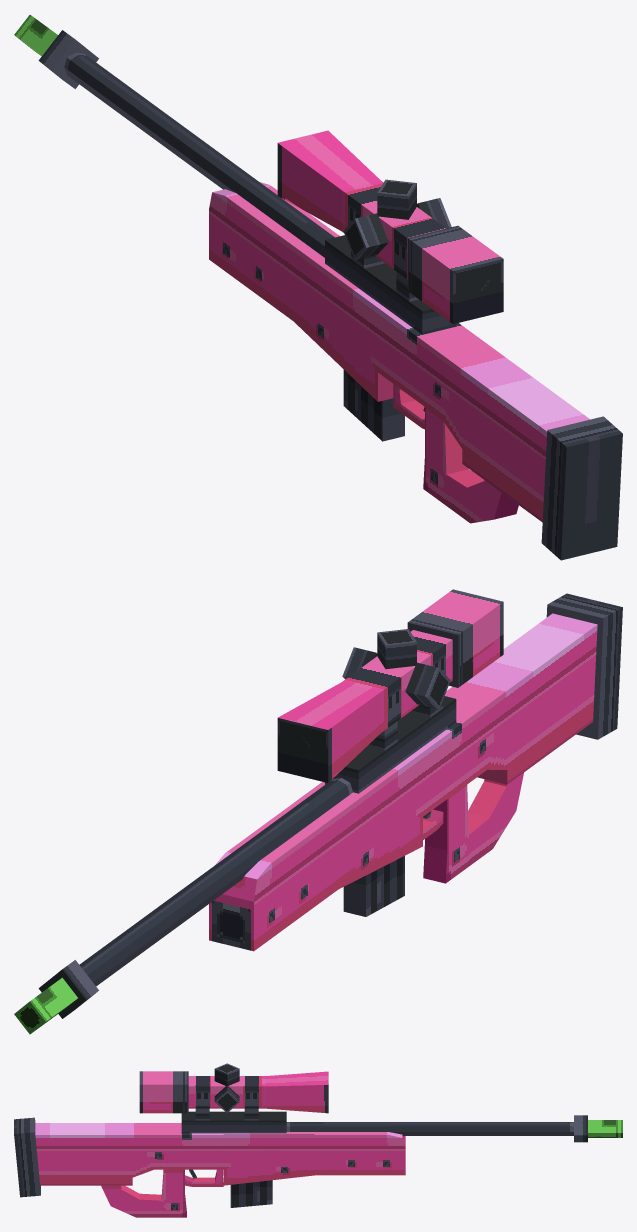
The model's file is awp-fun.gltf.
The picture shows the model from 3 angles, top to bottom: view 1: azimuth 30°, elevation 25°; view 2: azimuth 150°, elevation 25°; view 3: azimuth 270°, elevation 25°; orthographic projection. The views are drawn at different scales.
Visible parts, largest first — view 1: cube (×16); view 2: cube (×15); view 3: cube (×16).
Boxes of the visible parts, x1=… form: cube (×16): x1=14, y1=15, x2=622, y2=560; cube (×15): x1=14, y1=589, x2=622, y2=1034; cube (×16): x1=14, y1=1063, x2=622, y2=1217.
Size of the model in its own units: 0.4745 by 1.44 by 5.43.
1 material, 1 textured.
